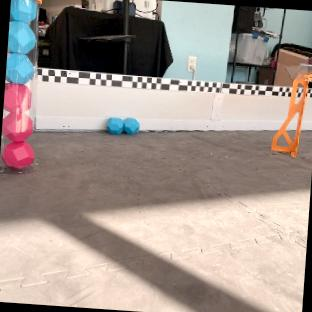V5_BLUE: (5, 50, 33, 83), (7, 21, 35, 53), (106, 117, 139, 134)
V5_RED: (1, 82, 31, 139), (3, 140, 32, 168)
